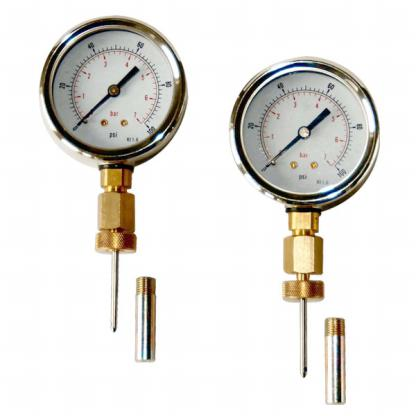needle: (266, 134, 303, 168), (77, 92, 112, 127)
